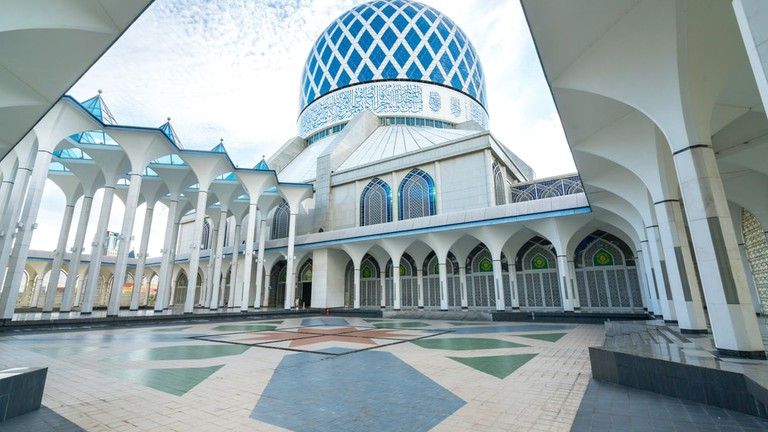Mosque: (20, 4, 621, 295)
